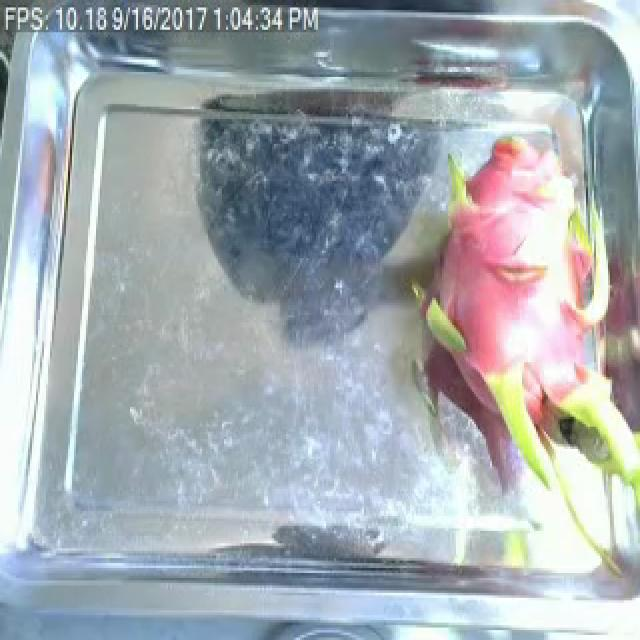fruit: (374, 134, 638, 551)
